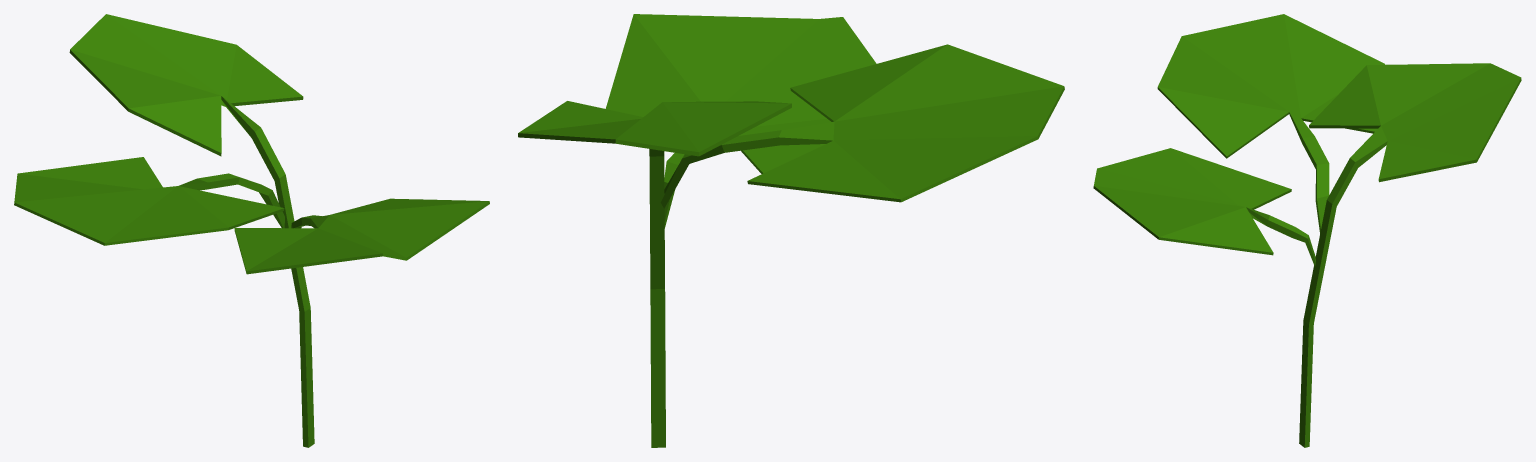
File: Plant_d_02.fbx
The picture shows the model from 3 angles, left to right: view 1: azimuth 30°, elevation 25°; view 2: azimuth 150°, elevation 25°; view 3: azimuth 270°, elevation 25°; orthographic projection. The views are drawn at different scales.
Visible parts, largest first — view 1: Plant_h_02_LOD0; view 2: Plant_h_02_LOD0; view 3: Plant_h_02_LOD0.
Part boxes in pixels (<box>): Plant_h_02_LOD0: <box>14,14,489,447</box>; Plant_h_02_LOD0: <box>518,14,1064,447</box>; Plant_h_02_LOD0: <box>1093,14,1521,447</box>.
Bounding box in the file's own units: 9.73 × 9.76 × 8.32.
